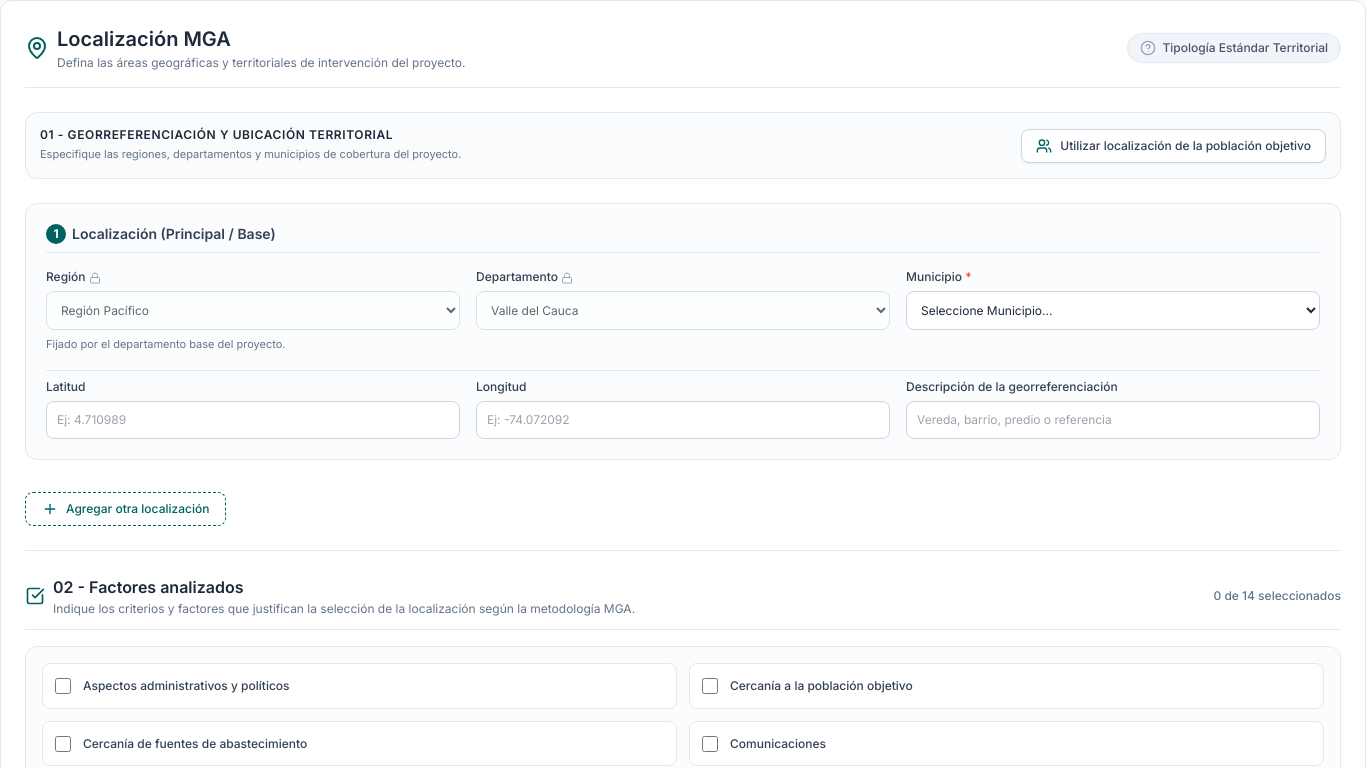
Scenario: LocalizacionTab - departamento base bloqueado › no copia la localización de la población objetivo si está en otro departamento
The width and height of the screenshot is (1366, 768).
// Reintenta el clic hasta que el catálogo de departamentos haya cargado.
Click the button "Utilizar localización de la población objetivo".
click(1174, 146)  # box [1021, 128, 1326, 162]
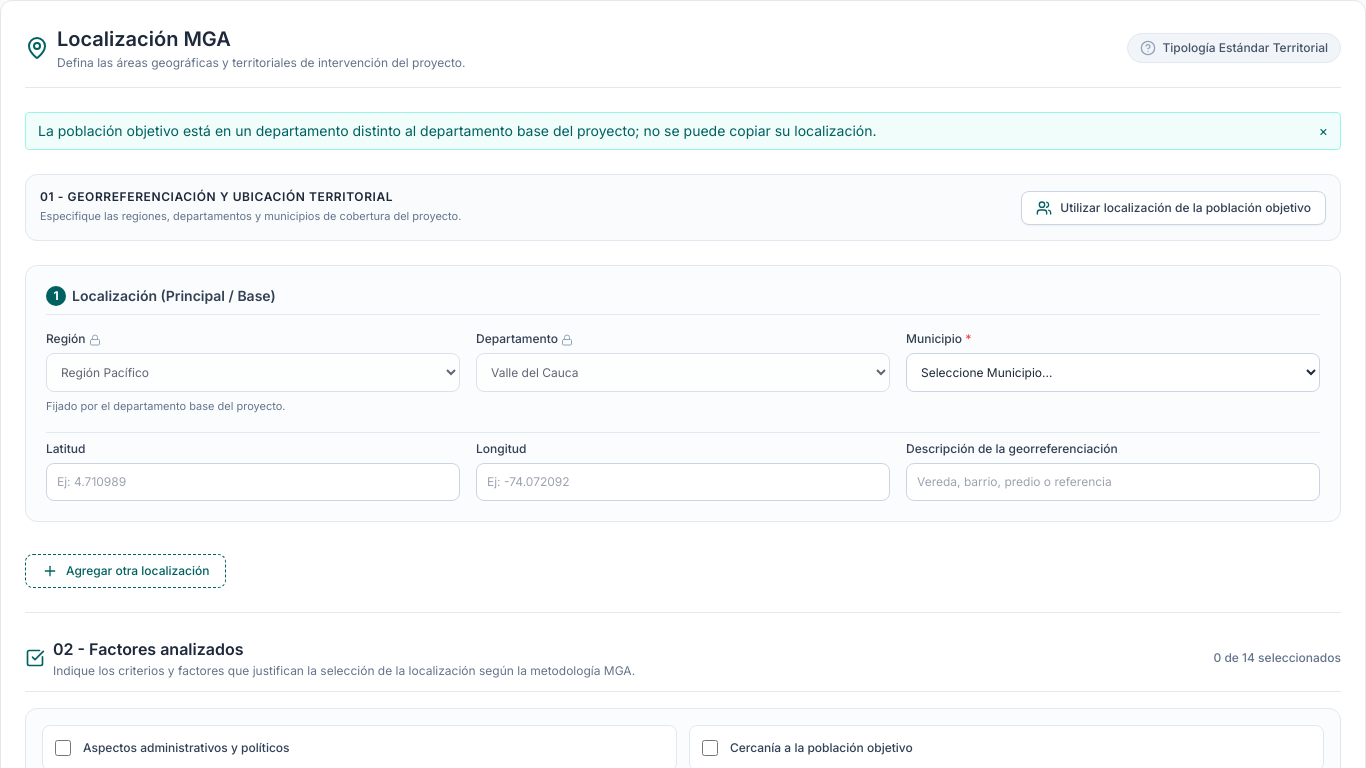
Check: the dropdown labelled "Departamento" shows "Valle del Cauca", box [476, 353, 890, 392]
Check: the text "departamento distinto al departamento base" is shown, box [38, 122, 876, 139]
